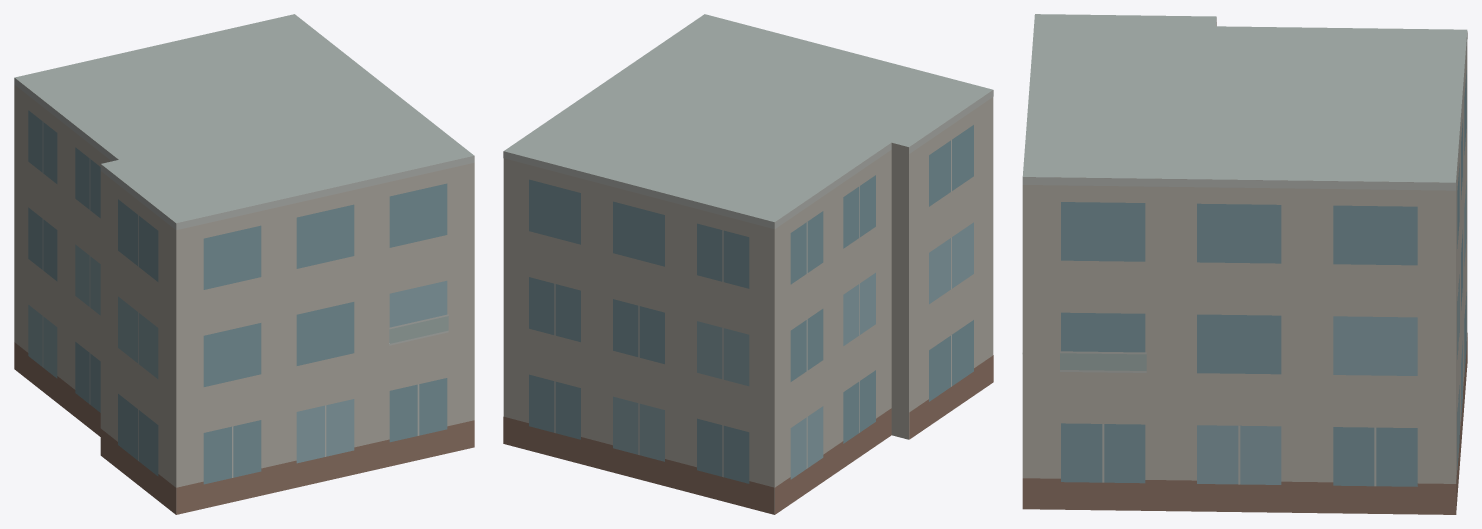
The model's file is survey-upis-32837803.glb.
3 renders of one model, left to right at view 1: azimuth 30°, elevation 25°; view 2: azimuth 150°, elevation 25°; view 3: azimuth 270°, elevation 25°, orthographic. The views are drawn at different scales.
Parts seen in each view (by area): view 1: survey-upis-32837803.tmp; view 2: survey-upis-32837803.tmp; view 3: survey-upis-32837803.tmp.
Boxes of the visible parts, x1,y1,x2,y2 form: survey-upis-32837803.tmp: [14, 14, 474, 514]; survey-upis-32837803.tmp: [503, 14, 993, 514]; survey-upis-32837803.tmp: [1022, 14, 1467, 514].
Size of the model in its own units: 11.12 by 10.2 by 12.39.
